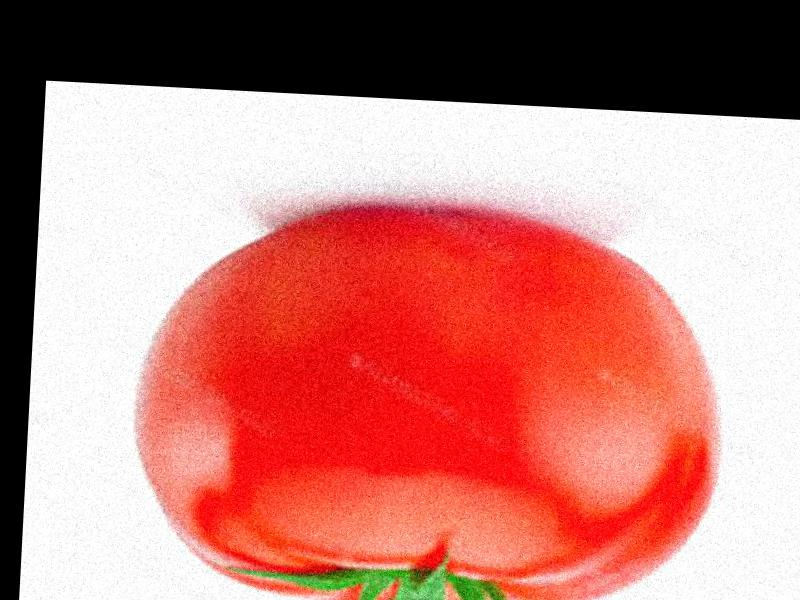Tomato: (124, 206, 730, 600)
